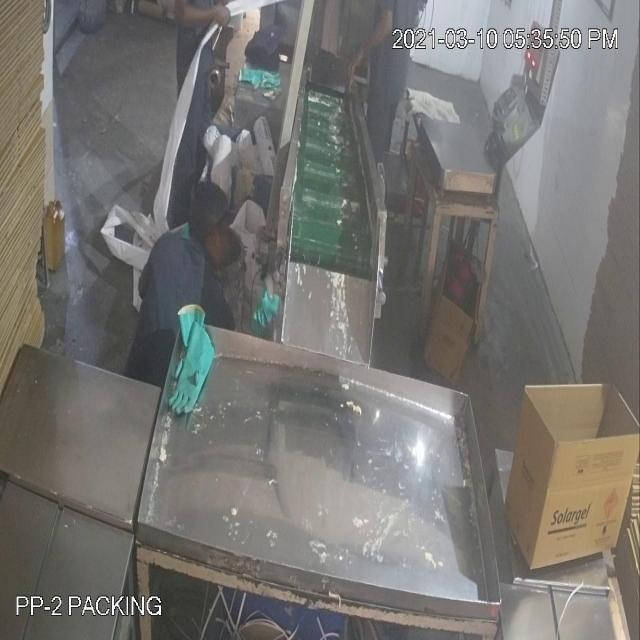No_Gloves: (340, 12, 400, 102)
